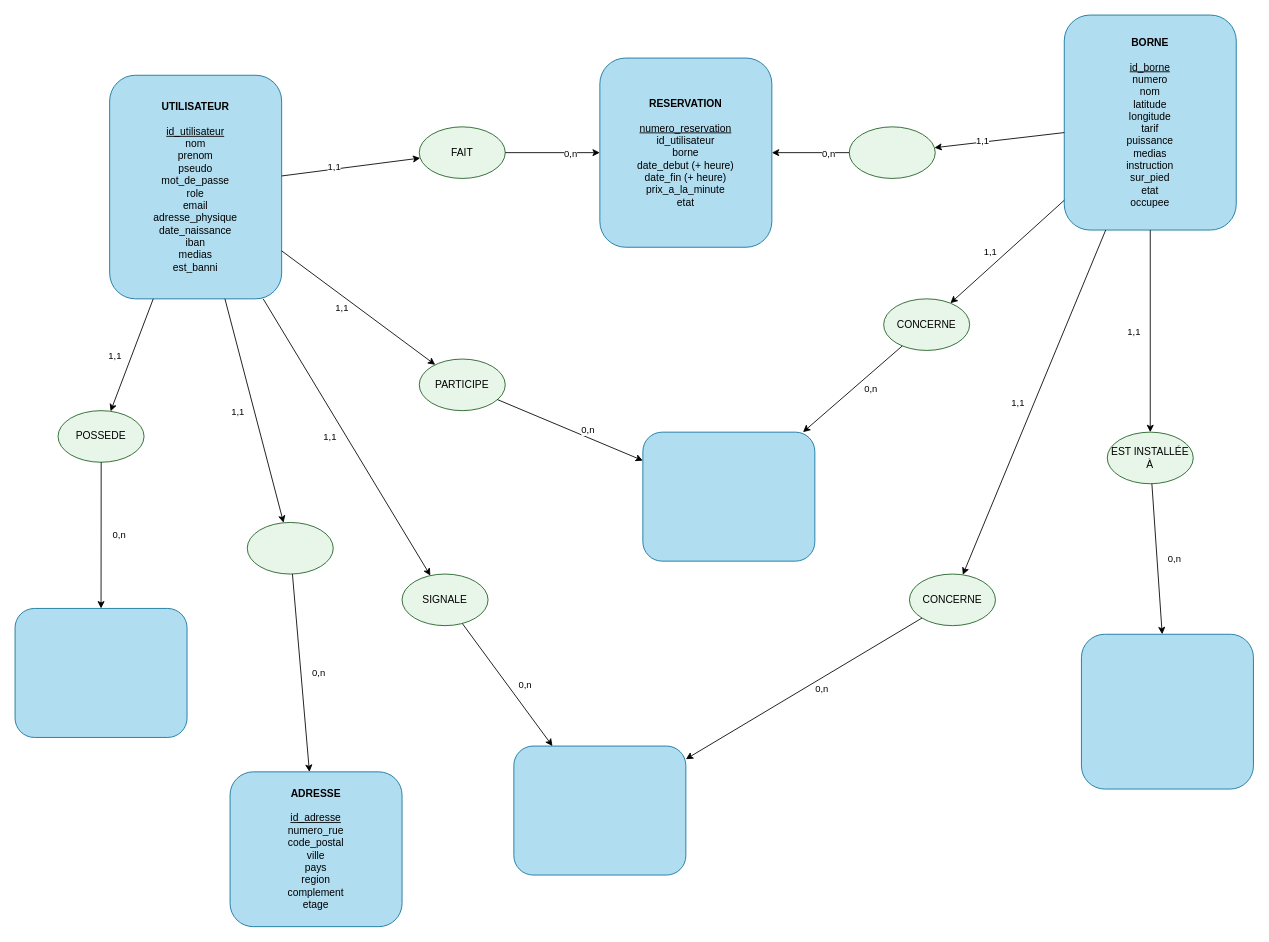
This 1269x942 diagram has some shape labels left out. The centre of each missing label's shape, as x and y in pixels:
A POUR ADRESSE: the point at 289,548
AVIS id_avis utilisateur borne note commentaire: the point at 728,496
LIEU id_lieu adresse nom medias: the point at 1167,711
RESERVEE: the point at 891,152
SIGNALEMENT id_signalement date_signalement description statut date_resolution: the point at 599,810
VEHICULE plaque_immatriculation marque modele annee capacite_batterie: the point at 100,672
